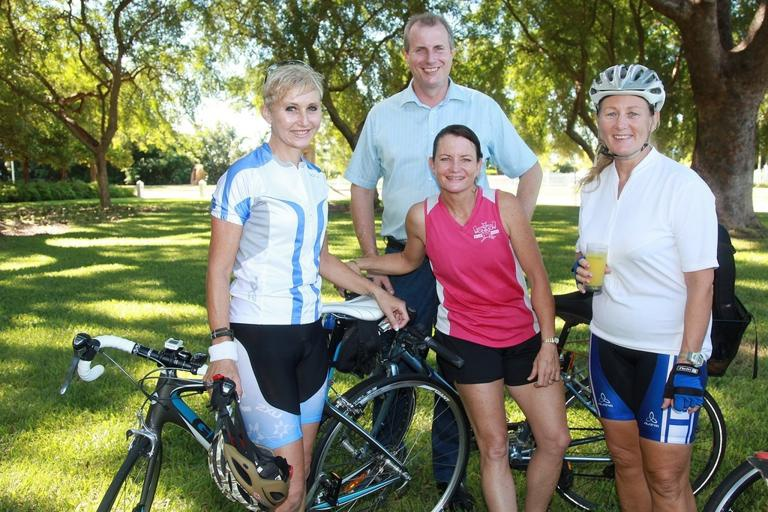non-vehicle: (307, 289, 730, 510), (59, 318, 471, 511), (705, 449, 768, 512)
